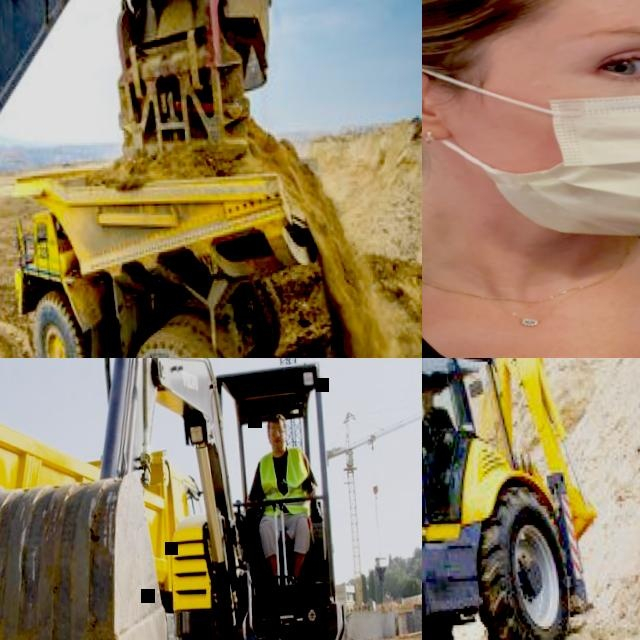Mask: (422, 42, 640, 242)
NO-Hardhat: (266, 411, 283, 422), (422, 385, 434, 397)
NO-Mask: (271, 437, 285, 451), (422, 398, 434, 409)
NO-Safety Vest: (422, 192, 640, 358), (256, 446, 309, 509), (422, 406, 452, 446)
Person: (422, 0, 640, 358), (241, 408, 320, 581), (422, 382, 459, 514)
machinery: (0, 358, 422, 640), (0, 0, 296, 358), (5, 145, 363, 358), (0, 358, 214, 640), (422, 358, 603, 640)
